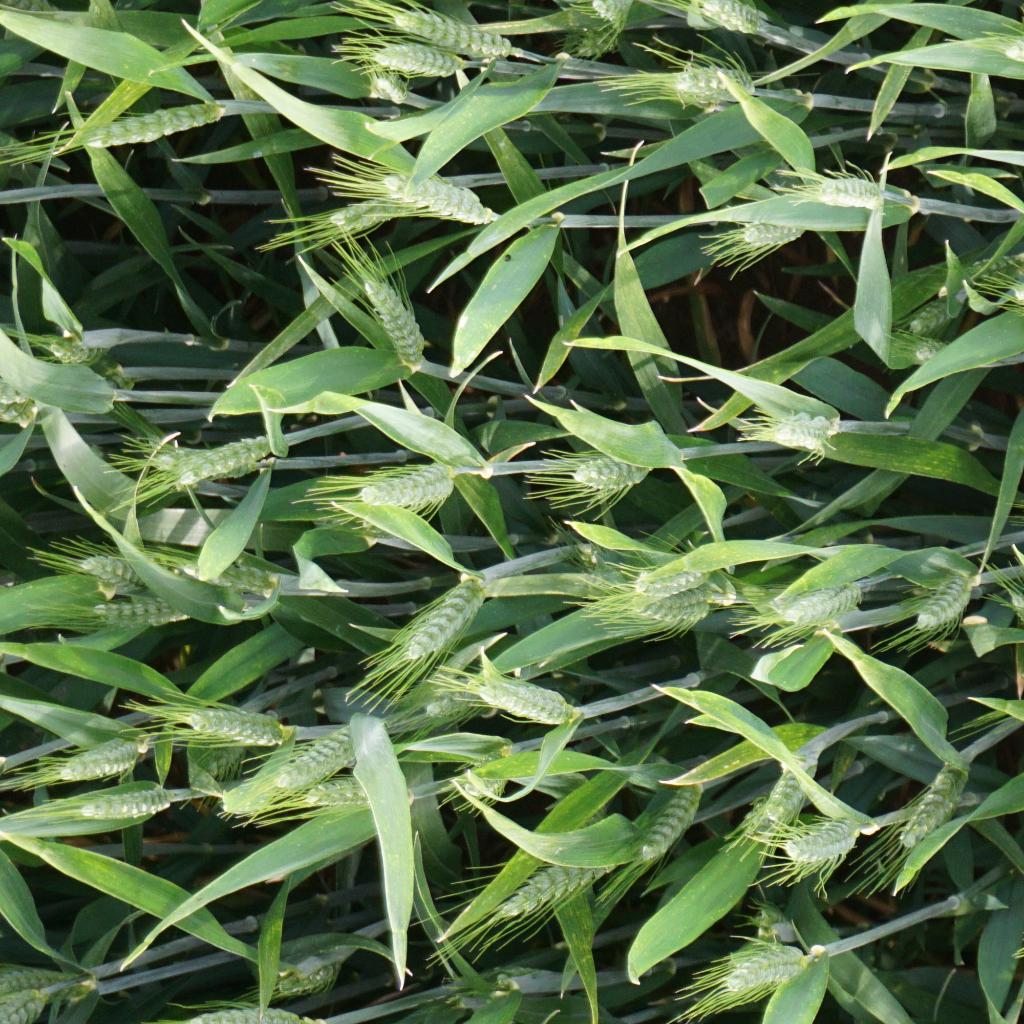0-0: (493, 833, 633, 924), (400, 574, 483, 663), (375, 168, 494, 225), (899, 757, 968, 849), (94, 99, 225, 146), (274, 722, 363, 788), (397, 6, 512, 57), (365, 269, 423, 370), (478, 667, 574, 726), (172, 436, 280, 485), (725, 935, 811, 994), (638, 776, 695, 863), (361, 460, 458, 510), (772, 568, 858, 624), (426, 668, 513, 721), (187, 705, 284, 748), (917, 560, 974, 632), (57, 728, 131, 783), (784, 813, 860, 866), (762, 743, 806, 834), (76, 783, 172, 823), (0, 955, 76, 1005), (631, 552, 715, 597), (195, 722, 260, 780), (375, 40, 473, 78), (617, 587, 722, 621), (807, 172, 898, 210), (180, 557, 278, 591), (91, 600, 208, 628), (72, 551, 152, 591), (675, 64, 755, 103), (0, 984, 79, 1023), (464, 743, 513, 803), (274, 951, 340, 995), (327, 193, 412, 227), (569, 455, 648, 490), (300, 779, 388, 807), (694, 0, 762, 35), (144, 455, 215, 486), (742, 213, 803, 249), (777, 413, 834, 451), (909, 294, 962, 334), (968, 251, 1024, 285), (36, 338, 104, 362), (0, 374, 33, 423), (369, 62, 407, 103), (915, 338, 961, 362), (756, 903, 790, 933), (578, 25, 610, 55), (580, 797, 608, 827)
